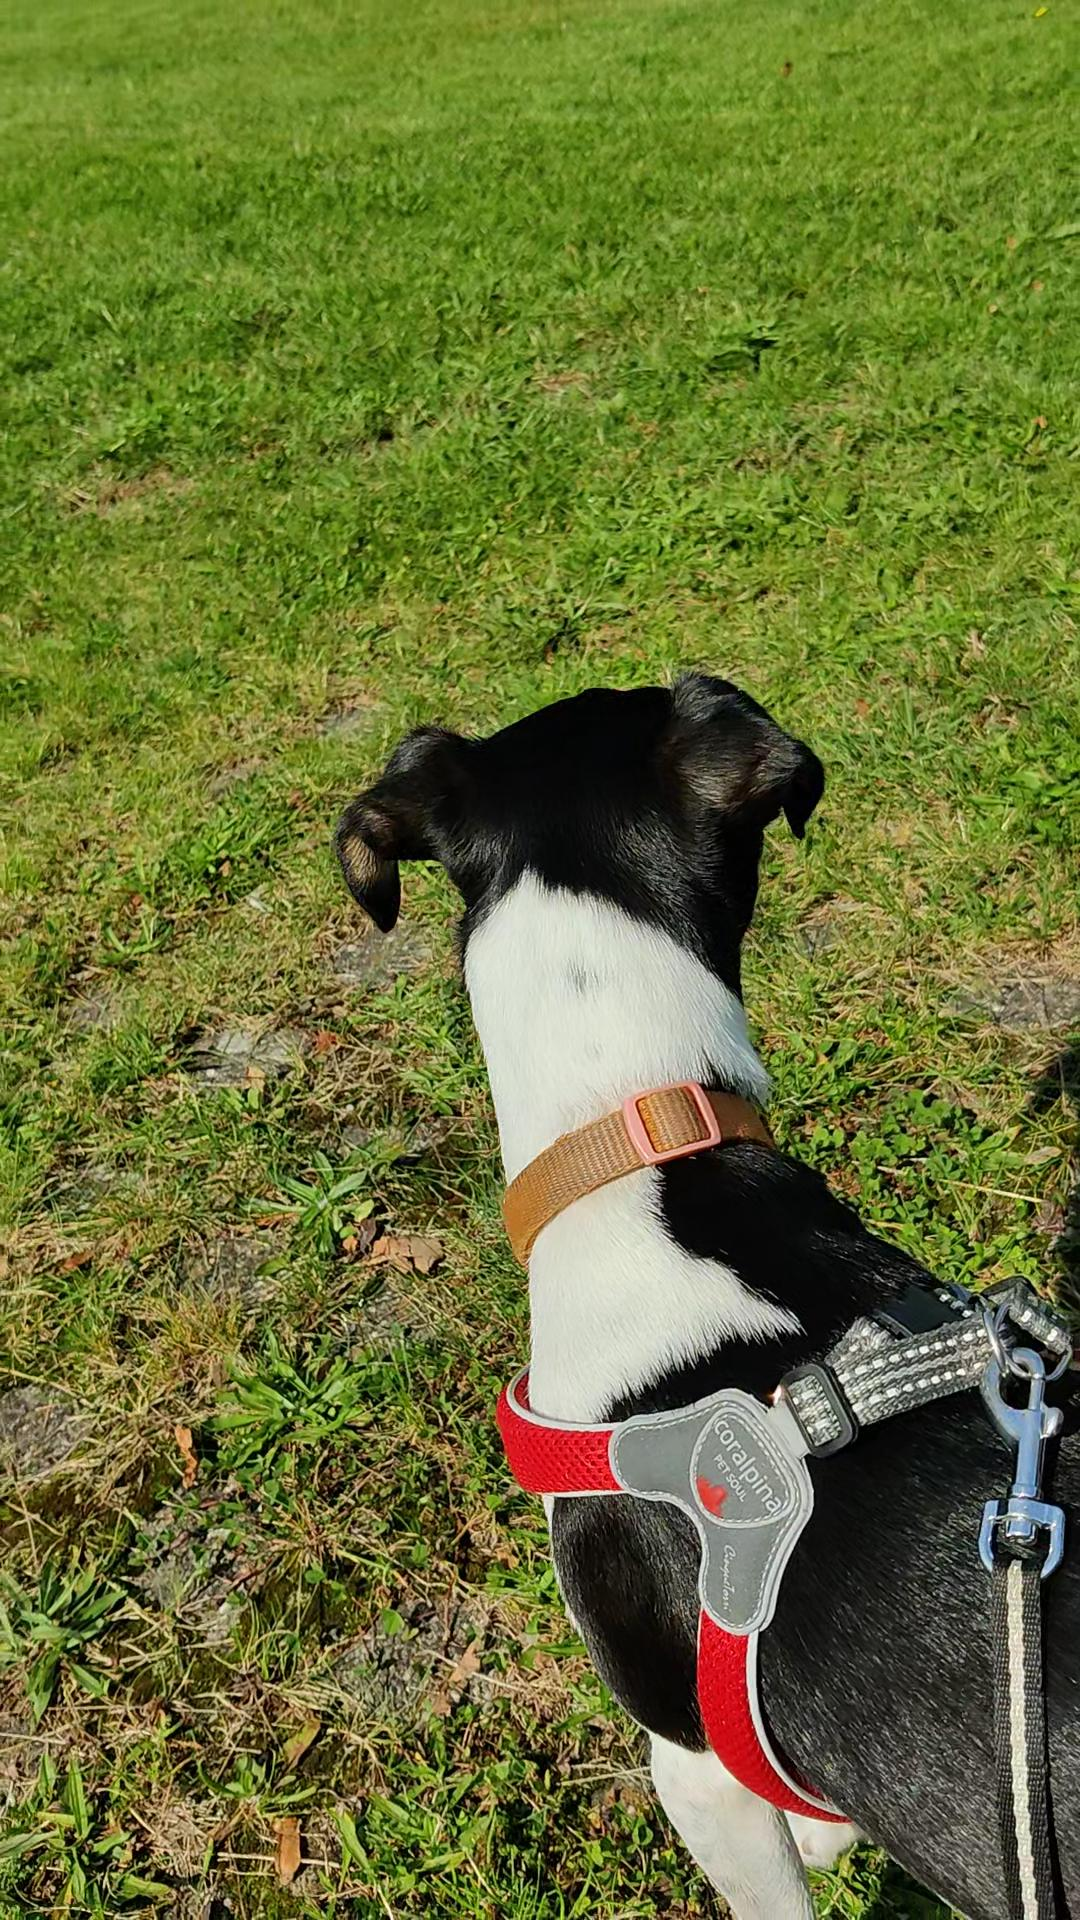Dog: (316, 655, 1079, 1919)
